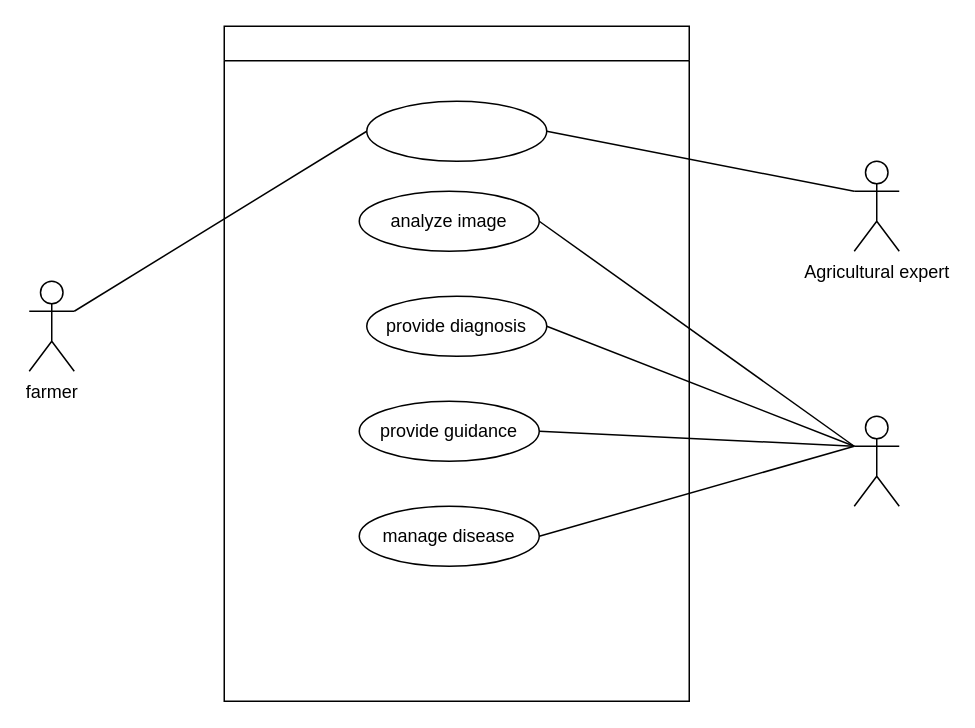
The diagram is 975 pixels wide and 728 high, and some of its shapes have lost their labels. Here are the shapes that lost their labels. From the top down, the box of each, then its label:
(365, 100, 547, 161): take image
(223, 25, 689, 701): rice disease detecting system
(853, 415, 899, 506): system
